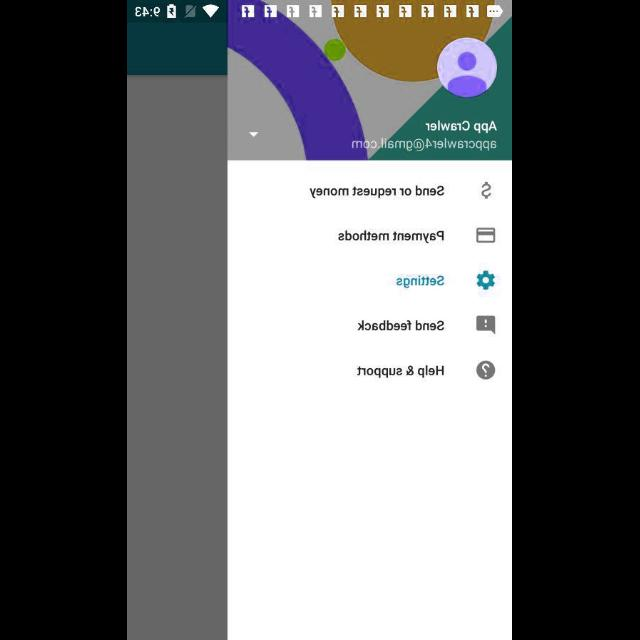icon: (438, 38, 498, 98), (476, 360, 496, 380), (476, 270, 496, 290), (476, 316, 496, 334), (476, 228, 496, 244), (482, 182, 492, 200), (250, 132, 258, 138)
panel: (228, 21, 512, 640)
text: (352, 138, 498, 152), (310, 186, 444, 200), (338, 230, 446, 244), (357, 365, 445, 379), (357, 320, 445, 332), (426, 120, 498, 134), (396, 276, 446, 288)
uppertaskbar: (128, 1, 512, 23)
